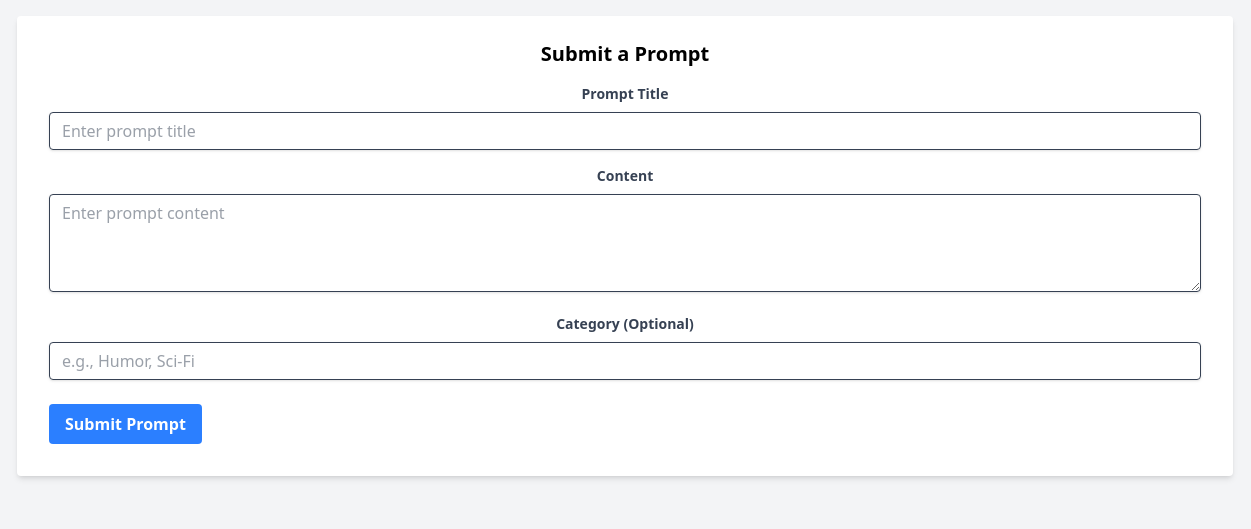
Test: PromptForm Component › shows error when submitting empty form
Click the button "Submit Prompt". click: click(125, 424)
box: [49,404,202,444]
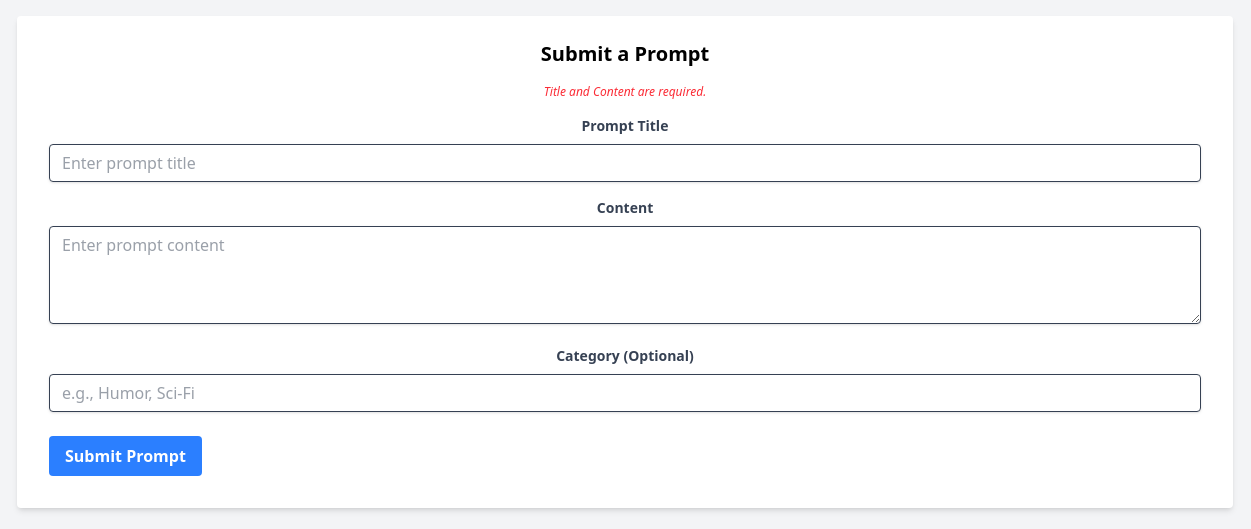
Check: the text "Title and Content are required." is shown, box [544,83,706,100]
